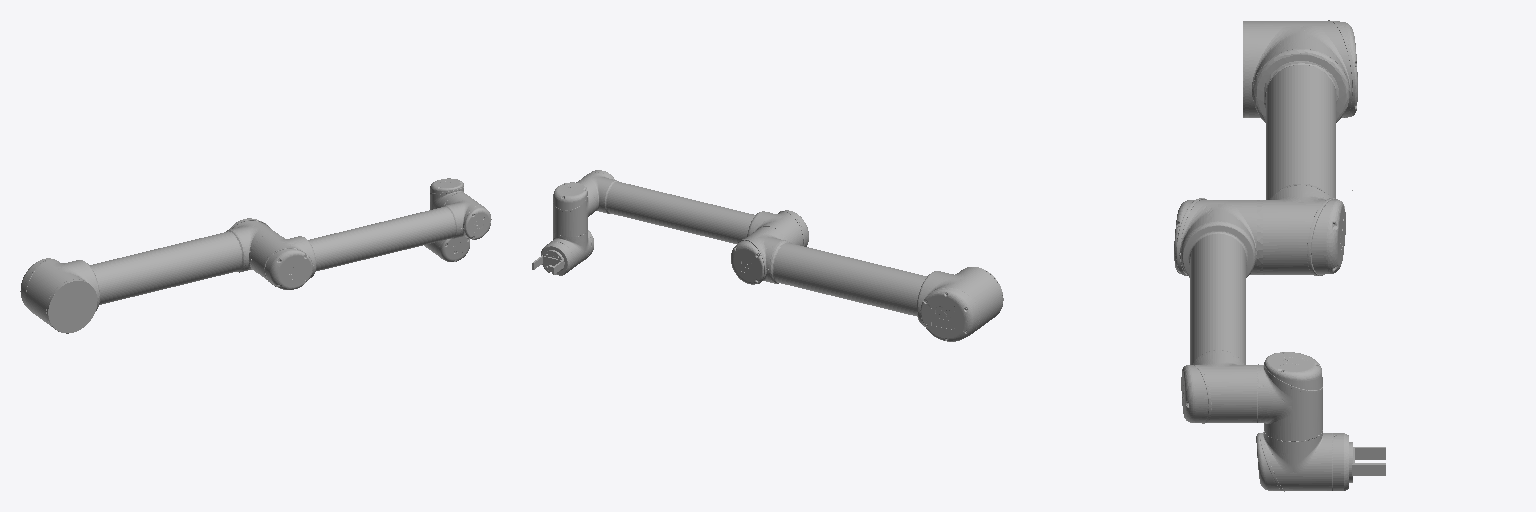
The robot description file, URDF, robot "ur10":
<?xml version="1.0" encoding="utf-8"?>
<robot name="ur10" xmlns:xacro="http://wiki.ros.org/xacro">
  <!-- ROS base_link to UR 'Base' Coordinates transform -->
  <link name="base">
    <inertial>
      <mass value="0.0"/>
      <origin rpy="0 0 0" xyz="0 0 0"/>
      <inertia ixx="0.0" ixy="0.0" ixz="0.0" iyy="0.0" iyz="0.0" izz="0.0"/>
    </inertial>
  </link>
  <joint name="base_link-base_fixed_joint" type="fixed">
    <!-- NOTE: this rotation is only needed as long as base_link itself is
                 not corrected wrt the real robot (ie: rotated over 180
                 degrees)
      -->
    <origin rpy="0 0 -3.14159265359" xyz="0 0 0"/>
    <parent link="base_link"/>
    <child link="base"/>
  </joint>

  <!-- robot arm -->
  <link name="base_link">
    <visual>
      <geometry>
        <mesh filename="package://ur_description/meshes/ur10/visual/base.dae"/>
      </geometry>
      <material name="LightGrey">
        <color rgba="0.7 0.7 0.7 1.0"/>
      </material>
    </visual>
    <collision>
      <geometry>
        <mesh filename="package://ur_description/meshes/ur10/collision/base.stl"/>
      </geometry>
    </collision>
    <inertial>
      <mass value="4.0"/>
      <origin rpy="0 0 0" xyz="0.0 0.0 0.0"/>
      <inertia ixx="0.0061063308908" ixy="0.0" ixz="0.0" iyy="0.0061063308908" iyz="0.0" izz="0.01125"/>
    </inertial>
  </link>
  <joint name="shoulder_pan_joint" type="revolute">
    <parent link="base_link"/>
    <child link="shoulder_link"/>
    <origin rpy="0.0 0.0 0.0" xyz="0.0 0.0 0.1273"/>
    <axis xyz="0 0 1"/>
    <limit effort="330.0" lower="-6.28318530718" upper="6.28318530718" velocity="2.16"/>
    <dynamics damping="0.0" friction="0.0"/>
  </joint>
  <link name="shoulder_link">
    <visual>
      <geometry>
        <mesh filename="package://ur_description/meshes/ur10/visual/shoulder.dae"/>
      </geometry>
      <material name="LightGrey">
        <color rgba="0.7 0.7 0.7 1.0"/>
      </material>
    </visual>
    <collision>
      <geometry>
        <mesh filename="package://ur_description/meshes/ur10/collision/shoulder.stl"/>
      </geometry>
    </collision>
    <inertial>
      <mass value="7.778"/>
      <origin rpy="0 0 0" xyz="0.0 0.0 0.0"/>
      <inertia ixx="0.0314743125769" ixy="0.0" ixz="0.0" iyy="0.0314743125769" iyz="0.0" izz="0.021875625"/>
    </inertial>
  </link>
  <joint name="shoulder_lift_joint" type="revolute">
    <parent link="shoulder_link"/>
    <child link="upper_arm_link"/>
    <origin rpy="0.0 1.57079632679 0.0" xyz="0.0 0.220941 0.0"/>
    <axis xyz="0 1 0"/>
    <limit effort="330.0" lower="-6.28318530718" upper="6.28318530718" velocity="2.16"/>
    <dynamics damping="0.0" friction="0.0"/>
  </joint>
  <link name="upper_arm_link">
    <visual>
      <geometry>
        <mesh filename="package://ur_description/meshes/ur10/visual/upperarm.dae"/>
      </geometry>
      <material name="LightGrey">
        <color rgba="0.7 0.7 0.7 1.0"/>
      </material>
    </visual>
    <collision>
      <geometry>
        <mesh filename="package://ur_description/meshes/ur10/collision/upperarm.stl"/>
      </geometry>
    </collision>
    <inertial>
      <mass value="12.93"/>
      <origin rpy="0 0 0" xyz="0.0 0.0 0.306"/>
      <inertia ixx="0.421753803798" ixy="0.0" ixz="0.0" iyy="0.421753803798" iyz="0.0" izz="0.036365625"/>
    </inertial>
  </link>
  <joint name="elbow_joint" type="revolute">
    <parent link="upper_arm_link"/>
    <child link="forearm_link"/>
    <origin rpy="0.0 0.0 0.0" xyz="0.0 -0.1719 0.612"/>
    <axis xyz="0 1 0"/>
    <limit effort="150.0" lower="-3.14159265359" upper="3.14159265359" velocity="3.15"/>
    <dynamics damping="0.0" friction="0.0"/>
  </joint>
  <link name="forearm_link">
    <visual>
      <geometry>
        <mesh filename="package://ur_description/meshes/ur10/visual/forearm.dae"/>
      </geometry>
      <material name="LightGrey">
        <color rgba="0.7 0.7 0.7 1.0"/>
      </material>
    </visual>
    <collision>
      <geometry>
        <mesh filename="package://ur_description/meshes/ur10/collision/forearm.stl"/>
      </geometry>
    </collision>
    <inertial>
      <mass value="3.87"/>
      <origin rpy="0 0 0" xyz="0.0 0.0 0.28615"/>
      <inertia ixx="0.111069694097" ixy="0.0" ixz="0.0" iyy="0.111069694097" iyz="0.0" izz="0.010884375"/>
    </inertial>
  </link>
  <joint name="wrist_1_joint" type="revolute">
    <parent link="forearm_link"/>
    <child link="wrist_1_link"/>
    <origin rpy="0.0 1.57079632679 0.0" xyz="0.0 0.0 0.5723"/>
    <axis xyz="0 1 0"/>
    <limit effort="54.0" lower="-6.28318530718" upper="6.28318530718" velocity="3.2"/>
    <dynamics damping="0.0" friction="0.0"/>
  </joint>
  <link name="wrist_1_link">
    <visual>
      <geometry>
        <mesh filename="package://ur_description/meshes/ur10/visual/wrist1.dae"/>
      </geometry>
      <material name="LightGrey">
        <color rgba="0.7 0.7 0.7 1.0"/>
      </material>
    </visual>
    <collision>
      <geometry>
        <mesh filename="package://ur_description/meshes/ur10/collision/wrist1.stl"/>
      </geometry>
    </collision>
    <inertial>
      <mass value="1.96"/>
      <origin rpy="0 0 0" xyz="0.0 0.0 0.0"/>
      <inertia ixx="0.0051082479567" ixy="0.0" ixz="0.0" iyy="0.0051082479567" iyz="0.0" izz="0.0055125"/>
    </inertial>
  </link>
  <joint name="wrist_2_joint" type="revolute">
    <parent link="wrist_1_link"/>
    <child link="wrist_2_link"/>
    <origin rpy="0.0 0.0 0.0" xyz="0.0 0.1149 0.0"/>
    <axis xyz="0 0 1"/>
    <limit effort="54.0" lower="-6.28318530718" upper="6.28318530718" velocity="3.2"/>
    <dynamics damping="0.0" friction="0.0"/>
  </joint>
  <link name="wrist_2_link">
    <visual>
      <geometry>
        <mesh filename="package://ur_description/meshes/ur10/visual/wrist2.dae"/>
      </geometry>
      <material name="LightGrey">
        <color rgba="0.7 0.7 0.7 1.0"/>
      </material>
    </visual>
    <collision>
      <geometry>
        <mesh filename="package://ur_description/meshes/ur10/collision/wrist2.stl"/>
      </geometry>
    </collision>
    <inertial>
      <mass value="1.96"/>
      <origin rpy="0 0 0" xyz="0.0 0.0 0.0"/>
      <inertia ixx="0.0051082479567" ixy="0.0" ixz="0.0" iyy="0.0051082479567" iyz="0.0" izz="0.0055125"/>
    </inertial>
  </link>
  <joint name="wrist_3_joint" type="revolute">
    <parent link="wrist_2_link"/>
    <child link="wrist_3_link"/>
    <origin rpy="0.0 0.0 0.0" xyz="0.0 0.0 0.1157"/>
    <axis xyz="0 1 0"/>
    <limit effort="54.0" lower="-6.28318530718" upper="6.28318530718" velocity="3.2"/>
    <dynamics damping="0.0" friction="0.0"/>
  </joint>
  <link name="wrist_3_link">
    <visual>
      <geometry>
        <mesh filename="package://ur_description/meshes/ur10/visual/wrist3.dae"/>
      </geometry>
      <material name="LightGrey">
        <color rgba="0.7 0.7 0.7 1.0"/>
      </material>
    </visual>
    <collision>
      <geometry>
        <mesh filename="package://ur_description/meshes/ur10/collision/wrist3.stl"/>
      </geometry>
    </collision>
    <inertial>
      <mass value="0.202"/>
      <origin rpy="0 0 0" xyz="0.0 0.0 0.0"/>
      <inertia ixx="0.000526462289415" ixy="0.0" ixz="0.0" iyy="0.000526462289415" iyz="0.0" izz="0.000568125"/>
    </inertial>
  </link>
  <joint name="ee_fixed_joint" type="fixed">
    <parent link="wrist_3_link"/>
    <child link="ee_link"/>
    <origin rpy="0.0 0.0 1.57079632679" xyz="0.0 0.0922 0.0"/>
  </joint>
  <link name="ee_link">
    <collision>
      <geometry>
        <box size="0.01 0.01 0.01"/>
      </geometry>
      <origin rpy="0 0 0" xyz="-0.01 0 0"/>
    </collision>
    <inertial>
      <mass value="0.0"/>
      <origin rpy="0 0 0" xyz="0 0 0"/>
      <inertia ixx="0.0" ixy="0.0" ixz="0.0" iyy="0.0" iyz="0.0" izz="0.0"/>
    </inertial>
  </link>

  <!-- end effector -->
  <!-- Frame coincident with all-zeros TCP on UR controller -->
  <link name="tool0">
    <inertial>
      <mass value="0"/>
      <origin rpy="0 0 0" xyz="0 0 0"/>
      <inertia ixx="0" ixy="0" ixz="0" iyy="0" iyz="0" izz="0"/>
    </inertial>
    <visual>
      <geometry>
	<box size="0.005 0.02 0.05" />
      </geometry>
      <origin xyz="0.03 0 0.035" />
      <material name="LightGrey">
        <color rgba="0.7 0.7 0.7 1.0"/>
      </material>
    </visual>
    <visual>
      <geometry>
	<box size="0.005 0.02 0.05" />
      </geometry>
      <origin xyz="-0.03 0 0.035" />
      <material name="LightGrey">
        <color rgba="0.7 0.7 0.7 1.0"/>
      </material>
    </visual>
    <visual>
      <geometry>
	<box size="0.065 0.02 0.005" />
      </geometry>
      <origin xyz="0 0 0.01" />
      <material name="LightGrey">
        <color rgba="0.7 0.7 0.7 1.0"/>
      </material>
    </visual>

    <collision>
      <geometry>
	<box size="0.005 0.02 0.05" />
      </geometry>
      <origin xyz="0.03 0 0.035" />
    </collision>
    <collision>
      <geometry>
	<box size="0.005 0.02 0.05" />
      </geometry>
      <origin xyz="-0.03 0 0.035" />
    </collision>
    <collision>
      <geometry>
	<box size="0.065 0.02 0.005" />
      </geometry>
      <origin xyz="0 0 0.01" />
    </collision>
  </link>
  <joint name="wrist_3_link-tool0_fixed_joint" type="fixed">
    <origin rpy="-1.570796325 0 0" xyz="0 0.0823 0"/>
    <parent link="wrist_3_link"/>
    <child link="tool0"/>
  </joint>
  <link name="world"/>
  <joint name="world_joint" type="fixed">
    <parent link="world"/>
    <child link="base_link"/>
    <origin rpy="0.0 0.0 0.0" xyz="0.0 0.0 0.0"/>
  </joint>
</robot>

--- What the picture shows (computed from the rendered views, not written in the file) ---
The picture shows the robot from 3 angles, left to right: view 1: azimuth 30°, elevation 25°; view 2: azimuth 150°, elevation 25°; view 3: azimuth 270°, elevation 25°; orthographic projection.
Model ur10 with 11 links and 10 joints (6 revolute, 4 fixed), rooted at world, posed all joints at 0.
Links seen in each view (by area): view 1: upper_arm_link, forearm_link, wrist_2_link, wrist_1_link; view 2: upper_arm_link, forearm_link, wrist_1_link, wrist_2_link, wrist_3_link; view 3: upper_arm_link, forearm_link, wrist_1_link, wrist_2_link, wrist_3_link, tool0.
Link boxes in pixels (<box>): upper_arm_link: <box>20,218,278,333</box>; forearm_link: <box>249,193,491,289</box>; wrist_2_link: <box>424,236,469,261</box>; wrist_1_link: <box>430,178,463,209</box>; upper_arm_link: <box>731,228,1003,341</box>; forearm_link: <box>576,170,808,246</box>; wrist_1_link: <box>553,182,595,236</box>; wrist_2_link: <box>547,230,593,269</box>; wrist_3_link: <box>541,242,573,275</box>; upper_arm_link: <box>1243,20,1357,275</box>; forearm_link: <box>1174,198,1262,423</box>; wrist_1_link: <box>1258,352,1322,441</box>; wrist_2_link: <box>1256,431,1332,491</box>; wrist_3_link: <box>1333,433,1352,490</box>; tool0: <box>1352,447,1385,475</box>.
Size in the robot's own frame: 1.31 by 0.3261 by 0.2635 metres.
Meshes: 7 distinct files referenced, 5 mesh visuals loaded (5 Collada DAE); not drawn: 2 (reference not matched to a file when rendering).